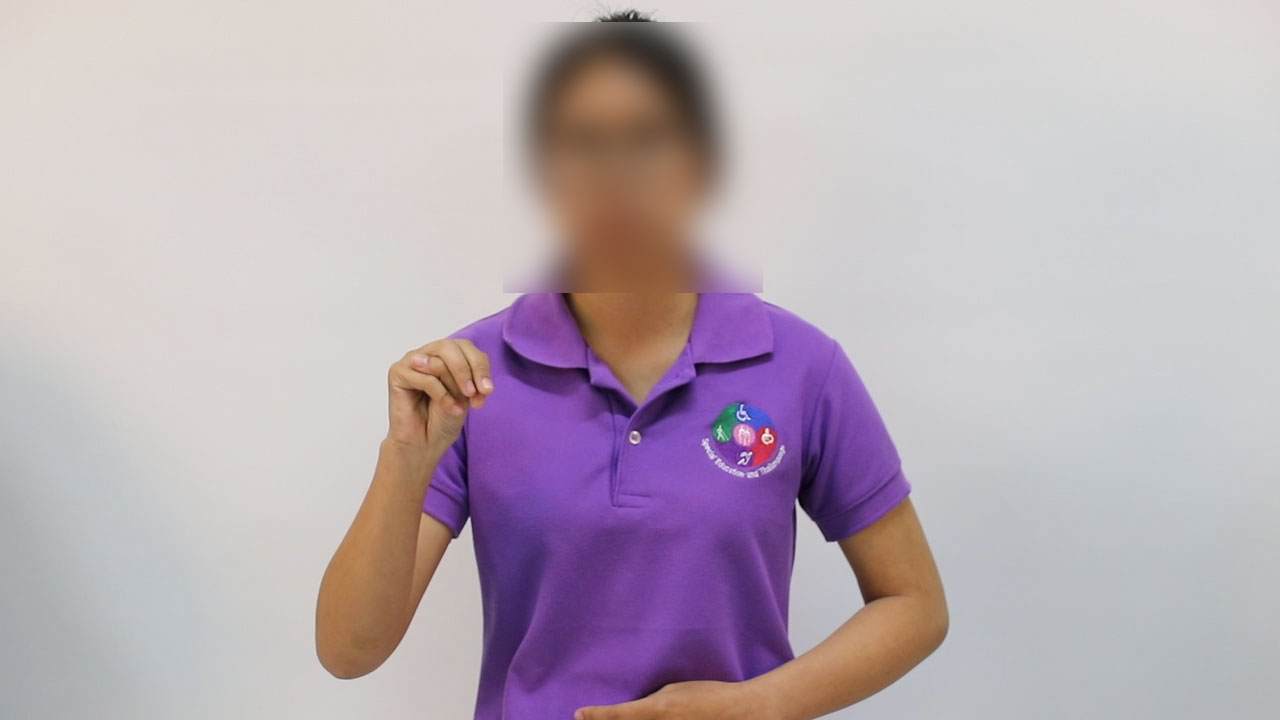mor: (378, 309, 497, 465)
